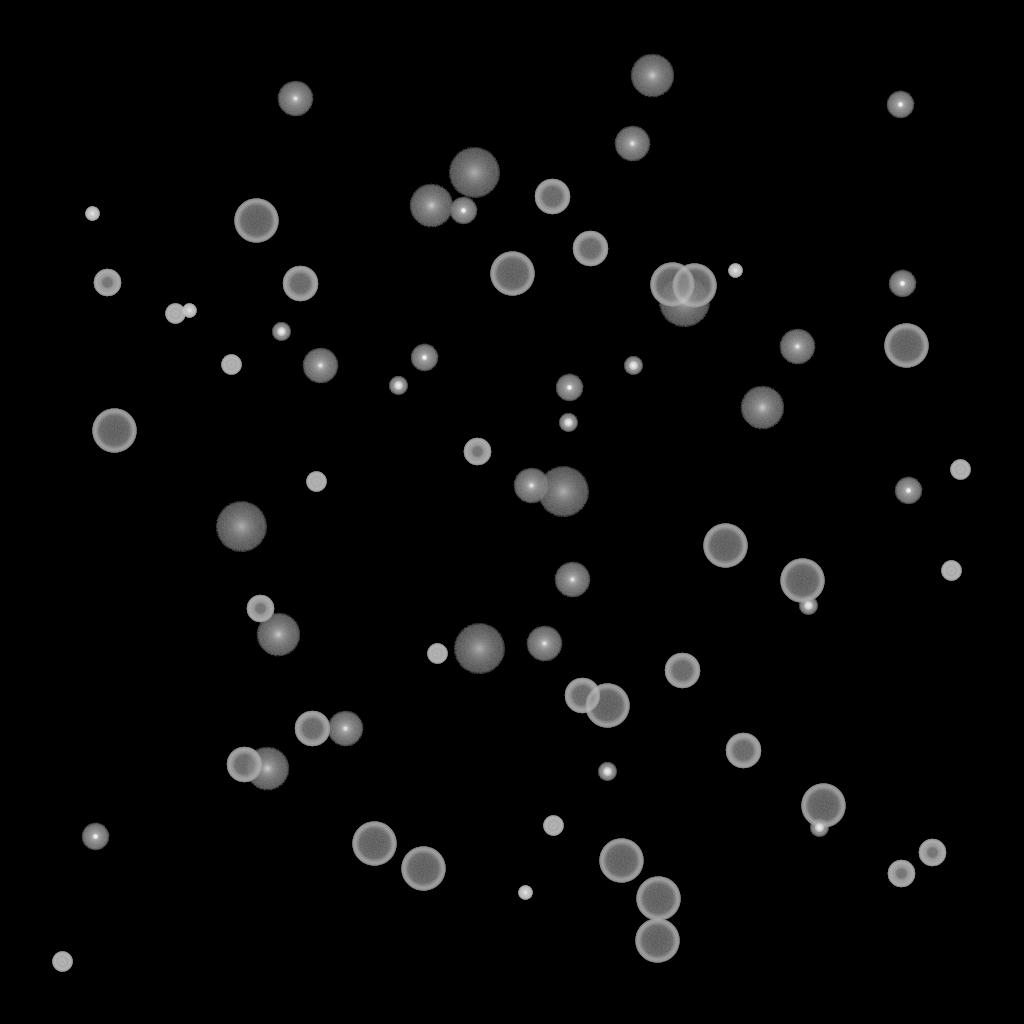depth:-10: (81, 823, 109, 851), (555, 374, 583, 402), (886, 91, 914, 119), (449, 197, 477, 225), (894, 477, 922, 505), (410, 344, 438, 372), (888, 270, 916, 298)
depth:-20: (624, 357, 642, 375), (559, 414, 577, 432), (799, 597, 817, 615), (810, 819, 828, 837), (272, 323, 290, 341), (389, 377, 407, 395), (598, 763, 616, 781)
depth:-30: (728, 264, 742, 278), (518, 886, 532, 900), (85, 207, 99, 221), (182, 304, 196, 318)
depth:-40: (306, 472, 326, 492), (221, 355, 241, 375), (941, 561, 961, 581), (427, 644, 447, 664), (543, 816, 563, 836), (165, 304, 185, 324), (950, 460, 970, 480), (52, 952, 72, 972)
depth:-50: (887, 860, 915, 888), (93, 269, 121, 297), (246, 595, 274, 623), (918, 839, 946, 867), (463, 438, 491, 466)
depth:-60: (534, 179, 570, 215), (725, 733, 761, 769), (564, 678, 600, 714), (572, 231, 608, 267), (226, 747, 262, 783), (282, 266, 318, 302), (664, 653, 700, 689), (294, 711, 330, 747)
depth:-70: (599, 839, 643, 883), (352, 822, 396, 866), (780, 559, 824, 603), (490, 252, 534, 296), (801, 784, 845, 828), (636, 877, 680, 921), (585, 684, 629, 728), (884, 324, 928, 368), (401, 847, 445, 891), (635, 919, 679, 963), (703, 524, 747, 568), (672, 264, 716, 308), (92, 409, 136, 453), (650, 263, 694, 307), (234, 199, 278, 243)
depth:0: (302, 348, 338, 384), (327, 711, 363, 747), (779, 329, 815, 365), (513, 468, 549, 504), (554, 562, 590, 598), (614, 126, 650, 162), (277, 81, 313, 117), (526, 626, 562, 662)
depth:10: (409, 184, 453, 228), (245, 747, 289, 791), (630, 54, 674, 98), (740, 386, 784, 430), (256, 613, 300, 657)
depth:20: (448, 148, 500, 198), (537, 467, 589, 517), (658, 277, 710, 327), (215, 502, 267, 552), (453, 624, 505, 674)
